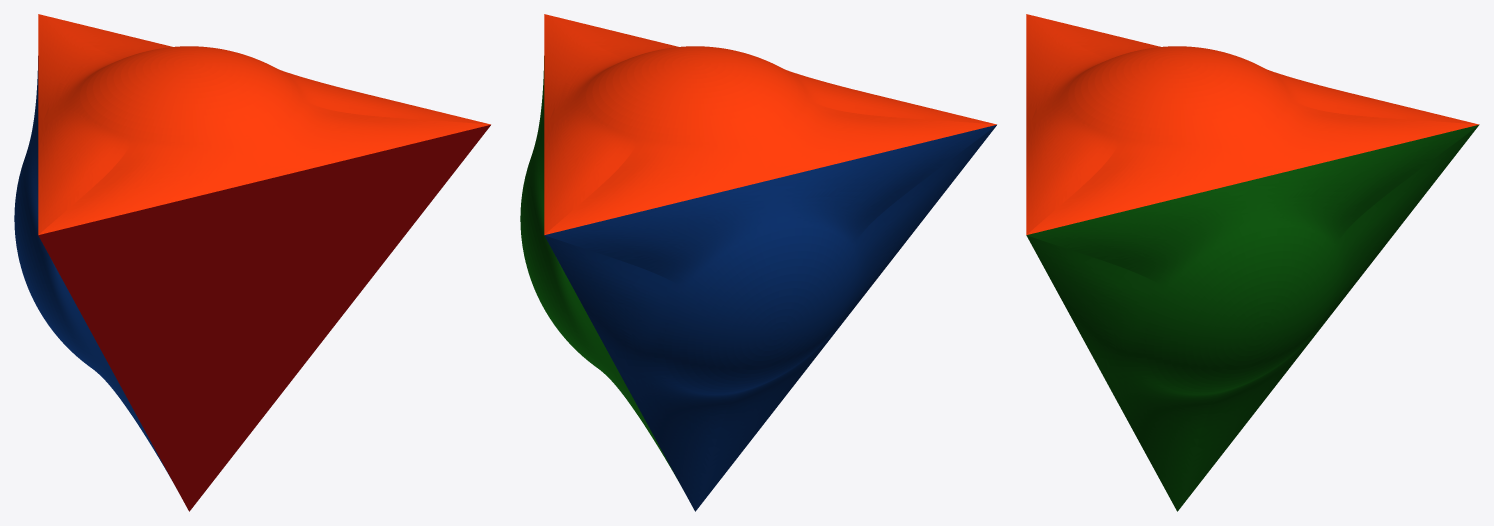
The model's file is 2_0_2_2_tetrahedron.obj.
3 views of the same model, side by side, from view 1: azimuth 30°, elevation 25°; view 2: azimuth 150°, elevation 25°; view 3: azimuth 270°, elevation 25° (orthographic).
Visible parts, largest first — view 1: Level_0_-_level_0_front, Level_2_-_level_2_top_Level_2_-_level_2_top.001, Level_2_-_level_2_left_Level_2_-_level_2_left.001; view 2: Level_2_-_level_2_left_Level_2_-_level_2_left.001, Level_2_-_level_2_top_Level_2_-_level_2_top.001, Level_2_-_level_2_right_Level_2_-_level_2_right.001; view 3: Level_2_-_level_2_right_Level_2_-_level_2_right.001, Level_2_-_level_2_top_Level_2_-_level_2_top.001.
Boxes of the visible parts, box(x1,y1,x2,y2) form: Level_0_-_level_0_front: box(38, 125, 490, 511); Level_2_-_level_2_top_Level_2_-_level_2_top.001: box(38, 14, 490, 234); Level_2_-_level_2_left_Level_2_-_level_2_left.001: box(14, 56, 170, 478); Level_2_-_level_2_left_Level_2_-_level_2_left.001: box(544, 125, 996, 511); Level_2_-_level_2_top_Level_2_-_level_2_top.001: box(544, 14, 996, 234); Level_2_-_level_2_right_Level_2_-_level_2_right.001: box(520, 56, 676, 478); Level_2_-_level_2_right_Level_2_-_level_2_right.001: box(1026, 124, 1479, 511); Level_2_-_level_2_top_Level_2_-_level_2_top.001: box(1026, 14, 1478, 234).
Size of the model in its own units: 0.1 by 0.0946 by 0.0866.
